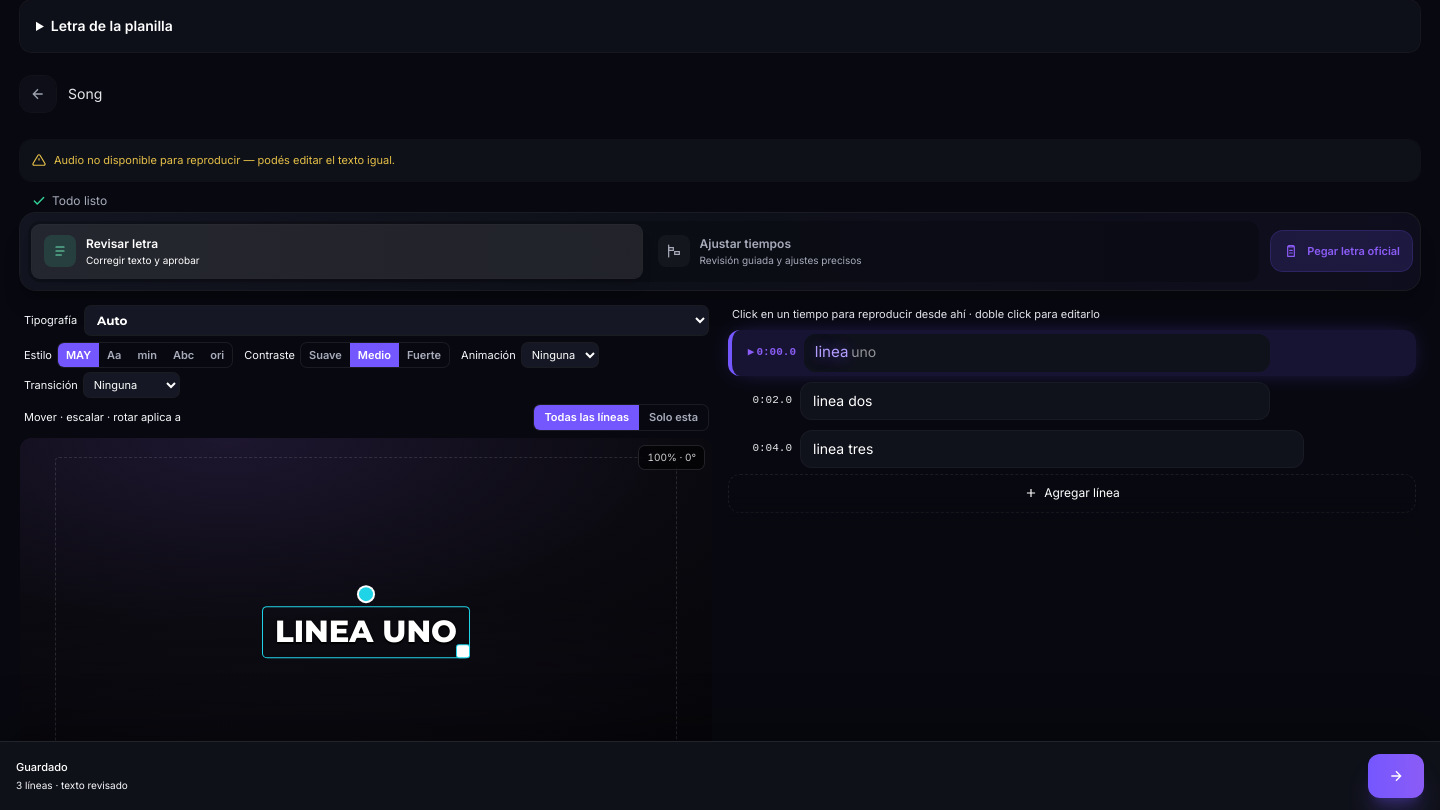
Test: Pegar letra oficial y re-sincronizar › 'Usar la letra de la planilla' prellena el textarea con la referencia de campaña
The image size is (1440, 810).
Click the tab "Ajustar tiempos": click(674, 251) 646,224 -> 1255,278
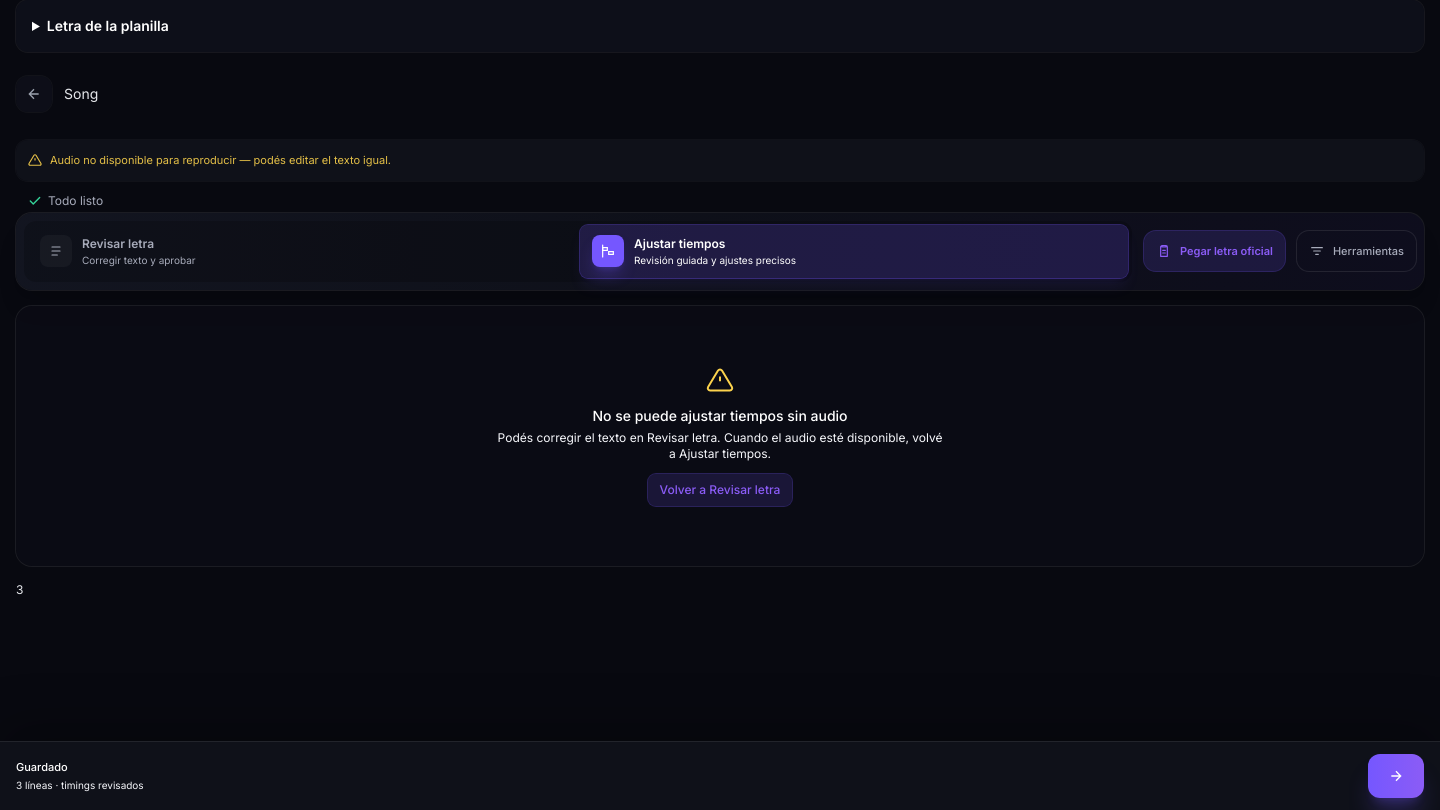
Click the button with test id "editor-overflow-btn": click(1356, 251) 1297,231 -> 1416,271
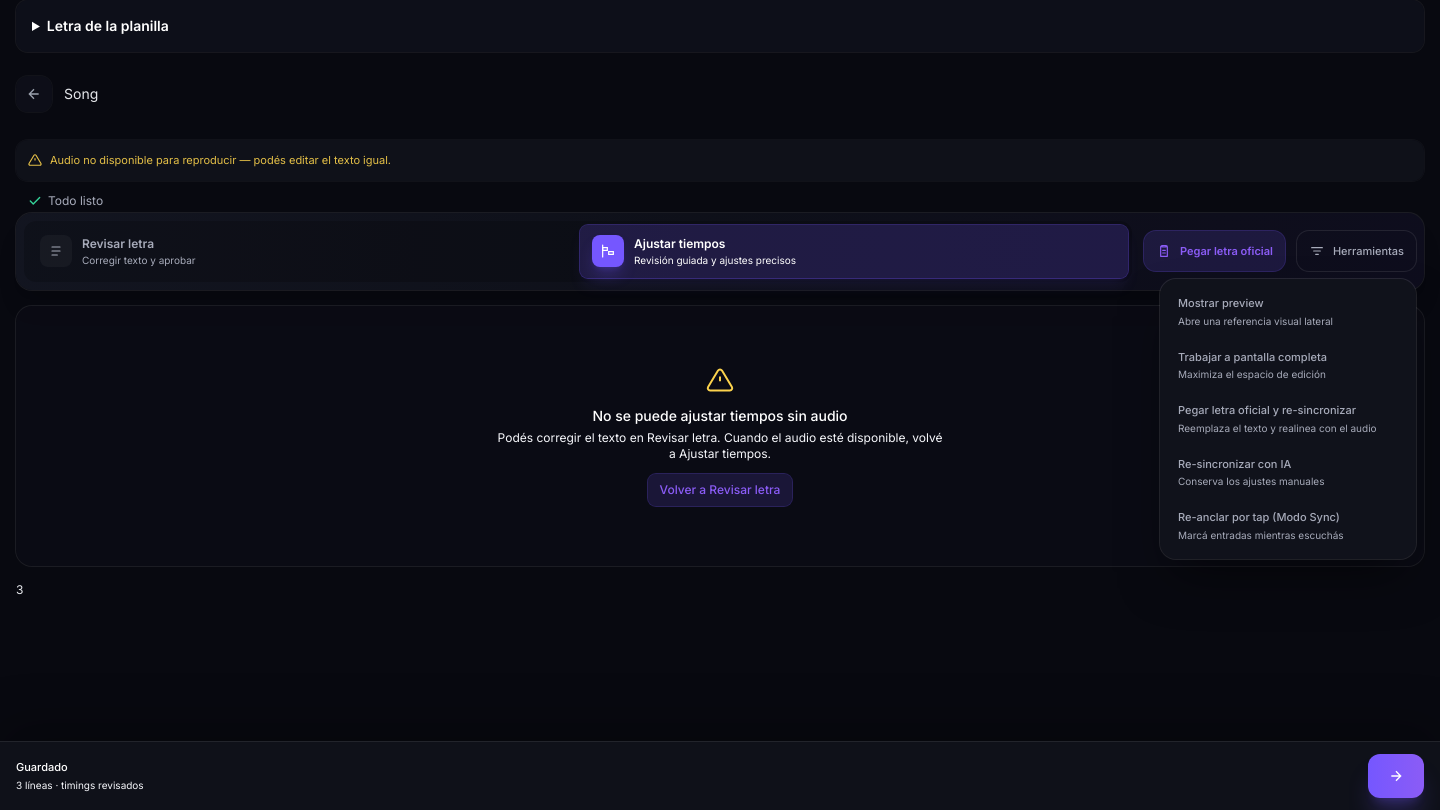
Click the menu item with test id "paste-lyrics-btn": click(1288, 419) 1166,392 -> 1410,446
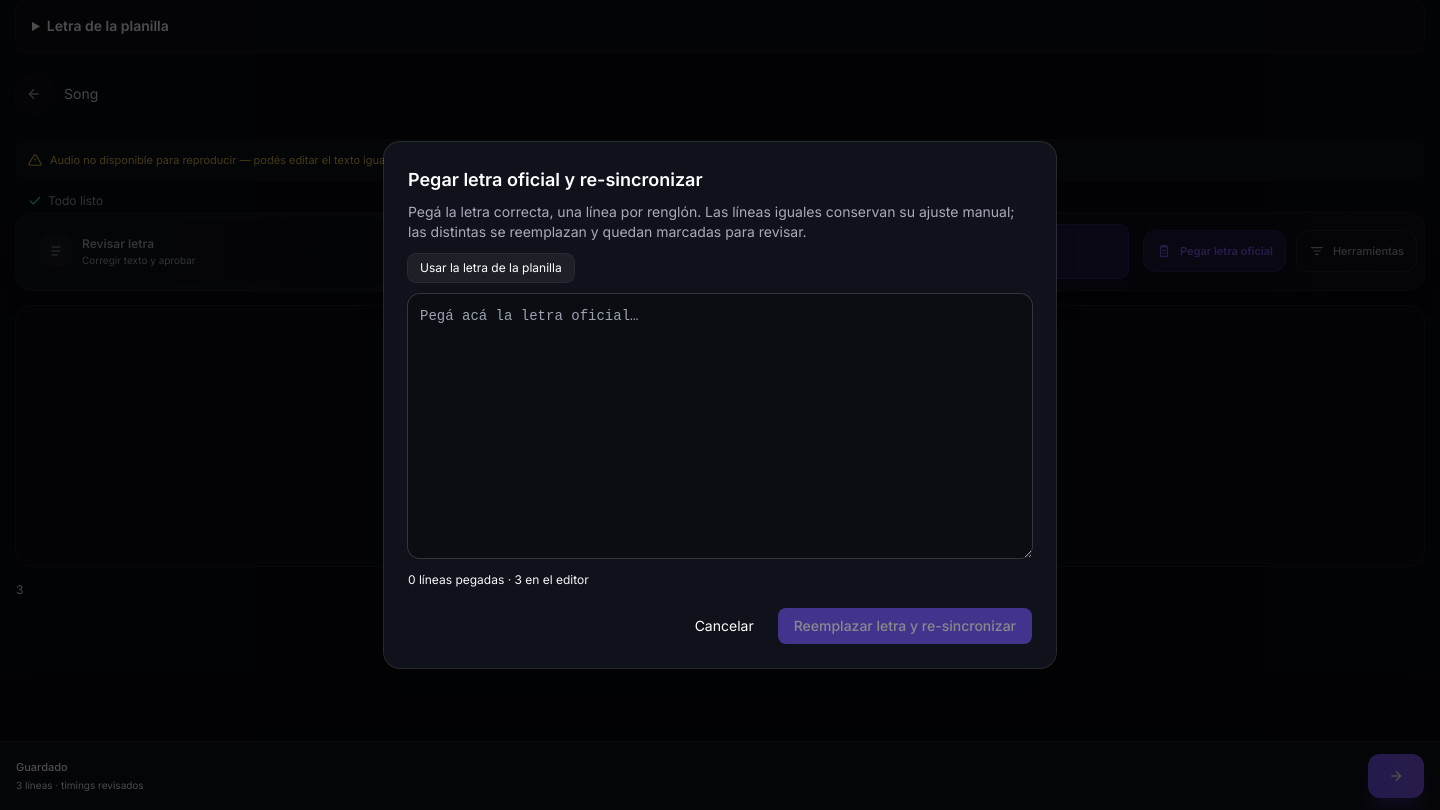
Click the button with test id "paste-lyrics-use-sheet": click(491, 268) 408,254 -> 574,282
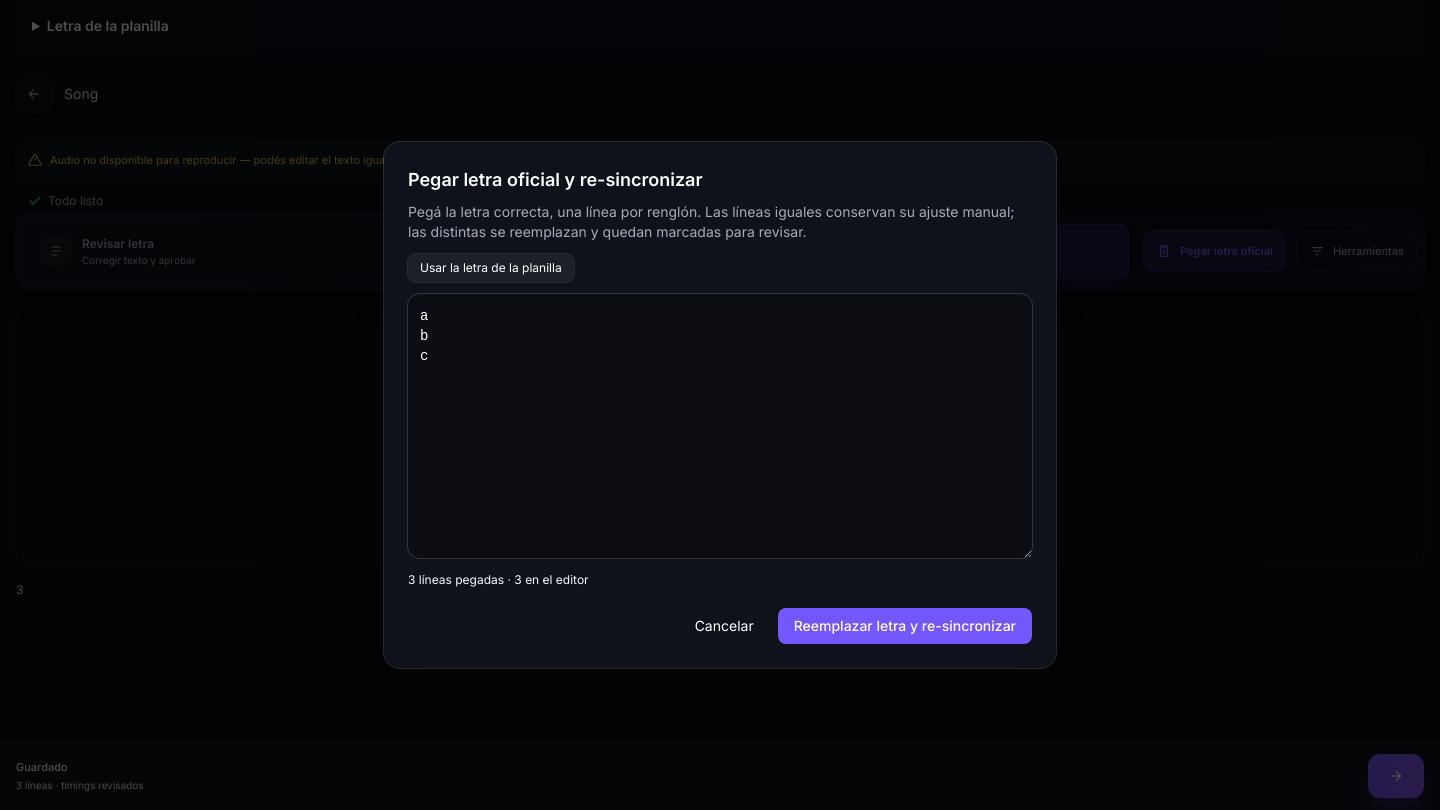
Expected: the button with test id "paste-lyrics-submit" is enabled, 778,608 -> 1032,644
